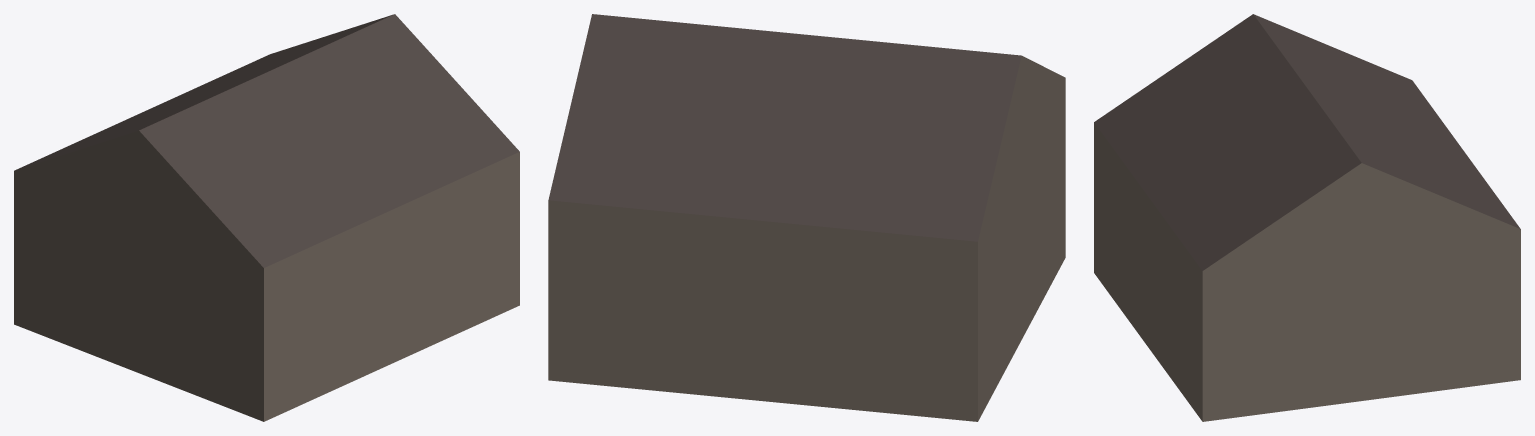
3 renders of one model, left to right at view 1: azimuth 30°, elevation 25°; view 2: azimuth 150°, elevation 25°; view 3: azimuth 270°, elevation 25°, orthographic. The views are drawn at different scales.
Visible parts, largest first — view 1: HP-w1198840873; view 2: HP-w1198840873; view 3: HP-w1198840873.
Boxes of the visible parts, bbox=[...] form: HP-w1198840873: bbox=[14, 14, 519, 421]; HP-w1198840873: bbox=[548, 14, 1065, 421]; HP-w1198840873: bbox=[1094, 14, 1520, 421].
Bounding box in the file's own units: 16.28 × 9.47 × 15.39.
